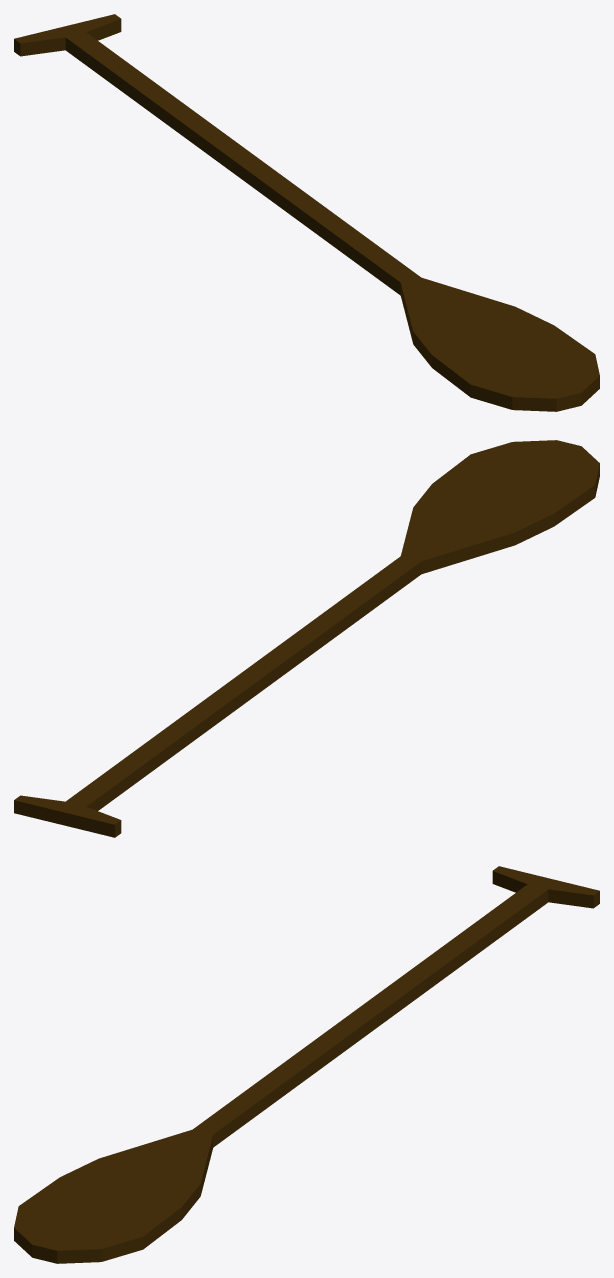
Rendered from paddle.FBX.
3 renders of one model, top to bottom at view 1: azimuth 30°, elevation 25°; view 2: azimuth 150°, elevation 25°; view 3: azimuth 330°, elevation 25°, orthographic.
Visible parts, largest first — view 1: Paddle; view 2: Paddle; view 3: Paddle.
Part boxes in pixels (<box>): Paddle: <box>14,14,599,411</box>; Paddle: <box>14,440,599,837</box>; Paddle: <box>14,866,599,1263</box>.
Size of the model in its own units: 16.11 by 1.61 by 113.
